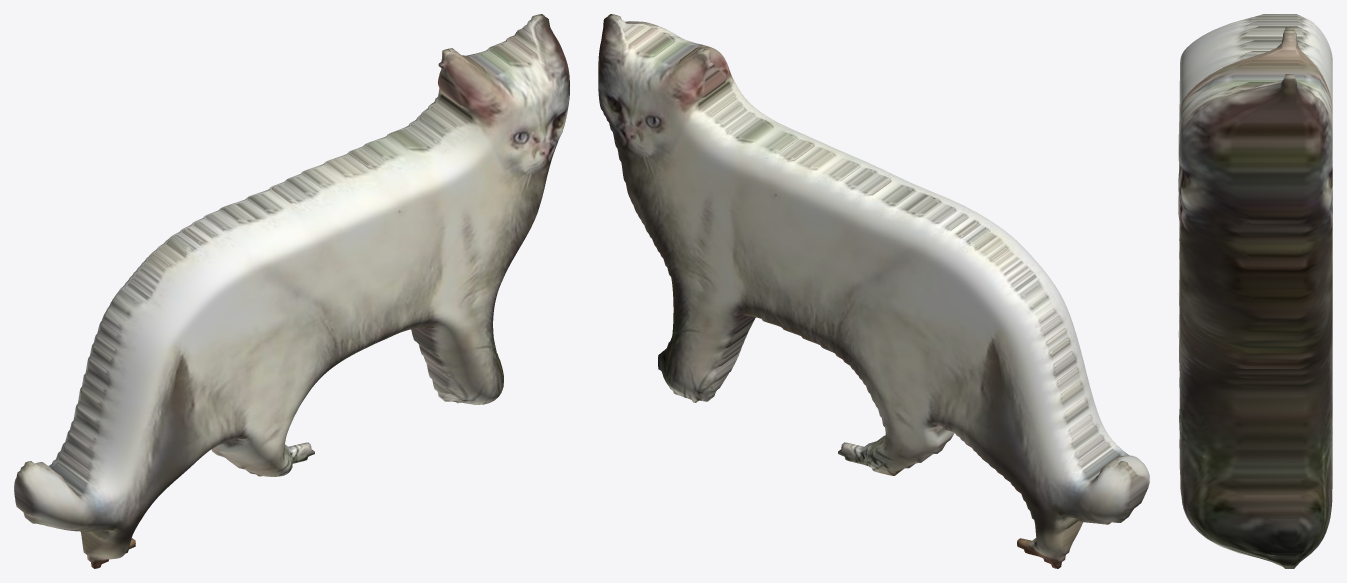
File: domestic_cat_236808539.glb
3 renders of one model, left to right at view 1: azimuth 30°, elevation 25°; view 2: azimuth 150°, elevation 25°; view 3: azimuth 270°, elevation 25°, orthographic. The views are drawn at different scales.
Parts seen in each view (by area): view 1: domestic_cat_236808539; view 2: domestic_cat_236808539; view 3: domestic_cat_236808539.
Part boxes in pixels (bbox=[...]): domestic_cat_236808539: bbox=[14, 14, 569, 568]; domestic_cat_236808539: bbox=[598, 14, 1149, 568]; domestic_cat_236808539: bbox=[1178, 14, 1332, 568].
Bounding box in the file's own units: 1.94 × 1.55 × 0.3307.
1 material, 1 textured.
